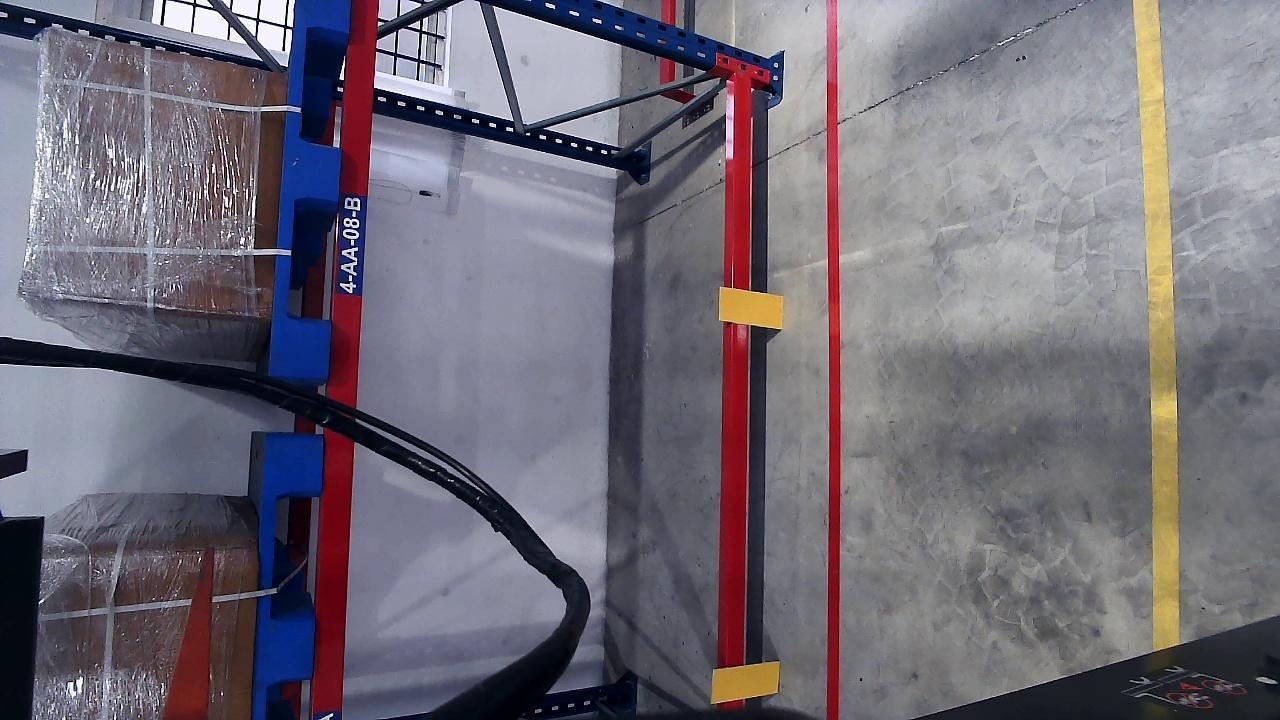red_line: (822, 0, 844, 720)
yellow_line: (1135, 0, 1181, 655)
